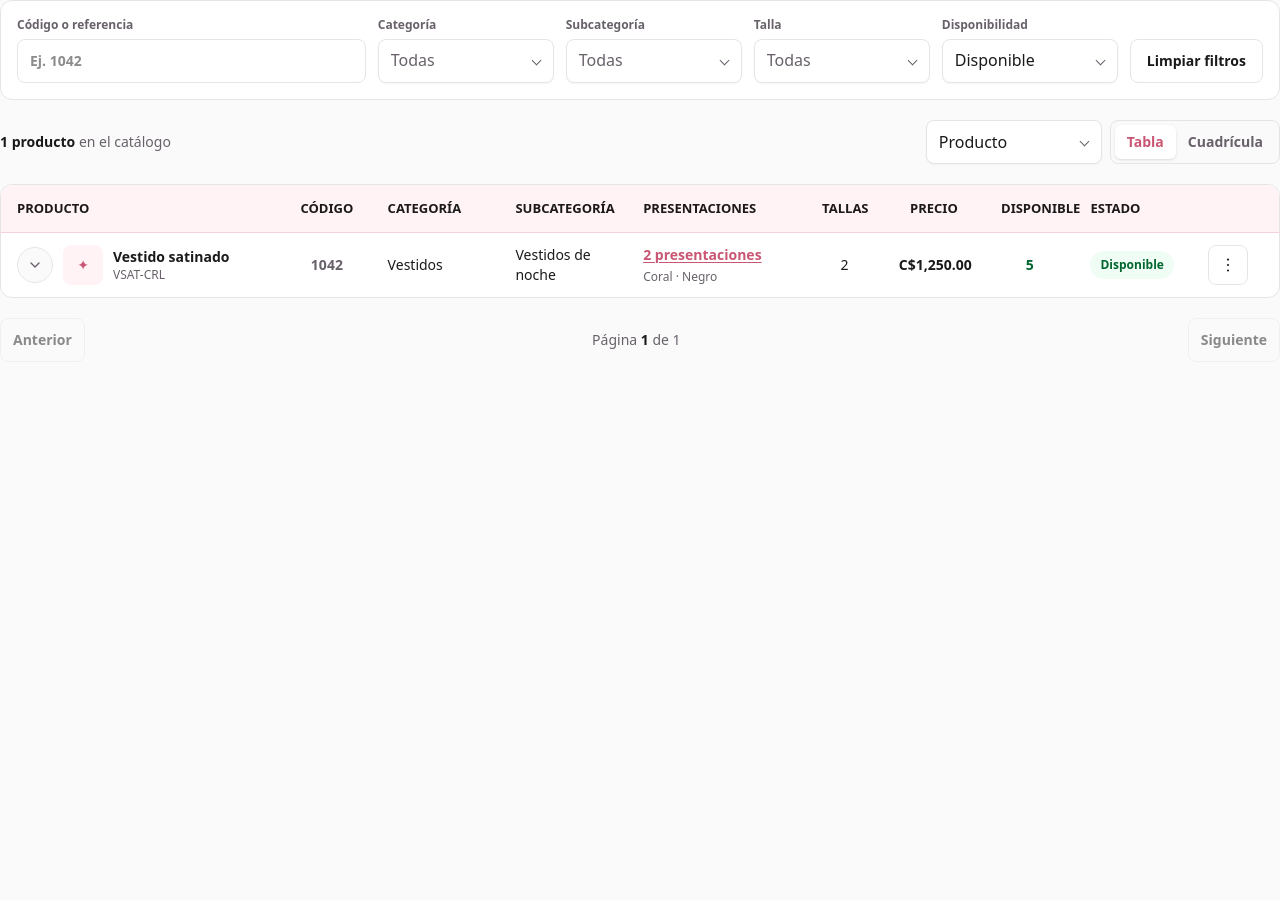
ProductsPage › switches to presentation grouping and renders each variant with its image
This screenshot has width=1280, height=900.
Expected: the text "Vestido satinado" is shown, 113,247 -> 230,266
Click the button with aria-label "Agrupar por" at (1014, 142), box 926,120 -> 1102,164
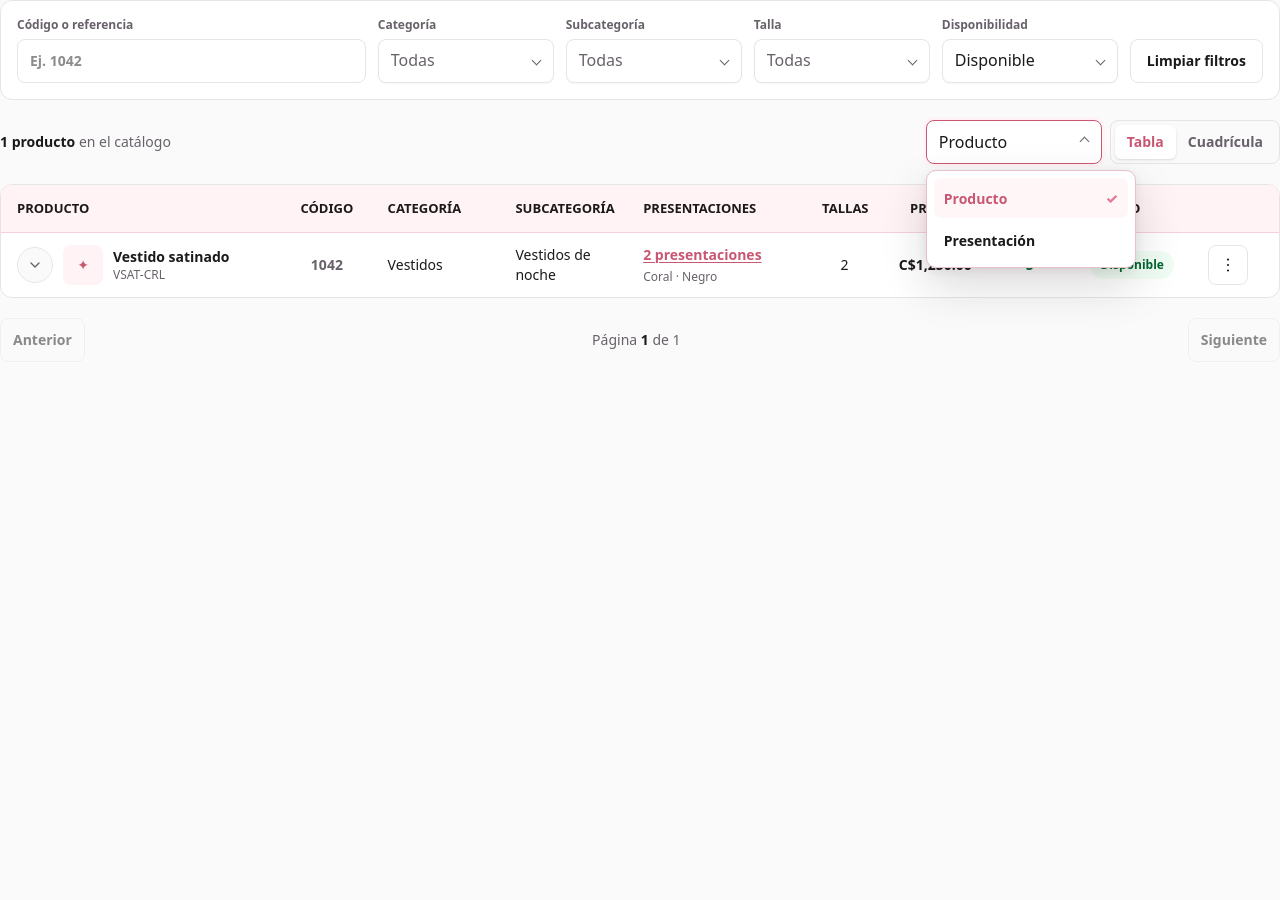
Click the option "Presentación" at (1031, 240), box 934,220 -> 1128,260
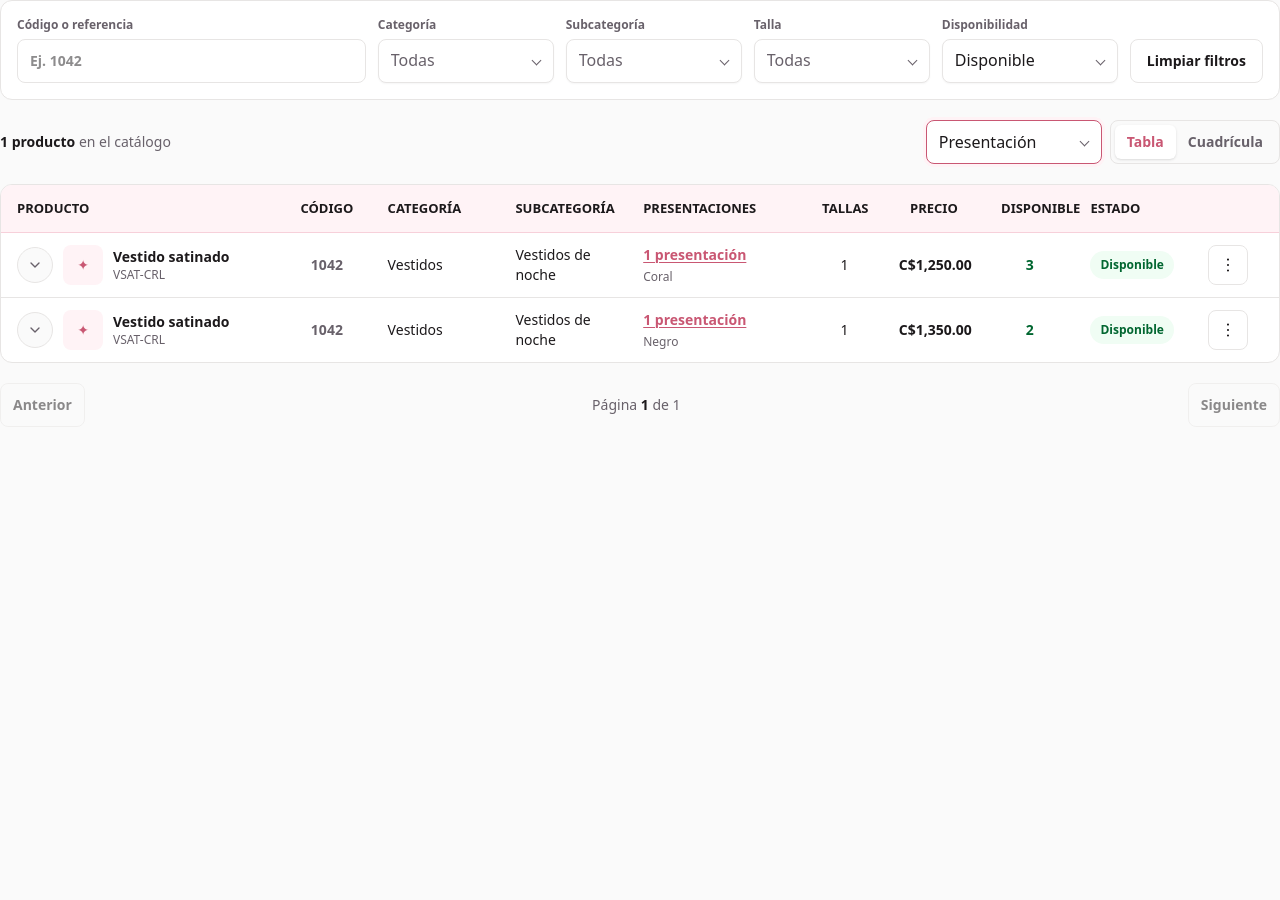
Expected: the number of rows is 3, 1,185 -> 1279,232; 1,233 -> 1279,297; 1,297 -> 1279,362
Click the button "Cuadrícula" at (1225, 142), box 1176,125 -> 1275,159
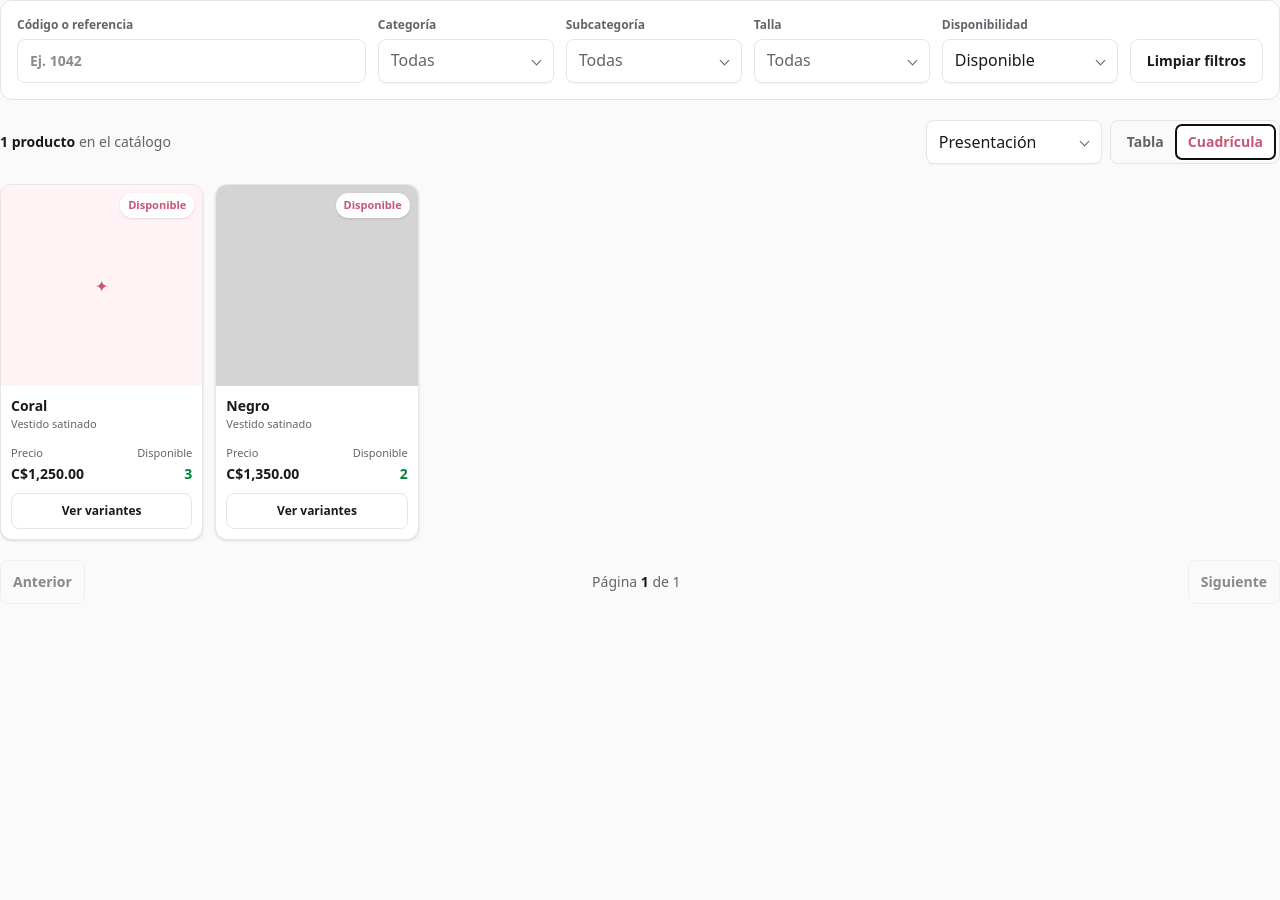
Expected: the heading "Coral" is shown, 11,396 -> 47,415
Expected: the heading "Negro" is shown, 226,396 -> 270,415
Click the button with aria-label "Ver variantes de Negro" at (317, 511), box 226,493 -> 408,529
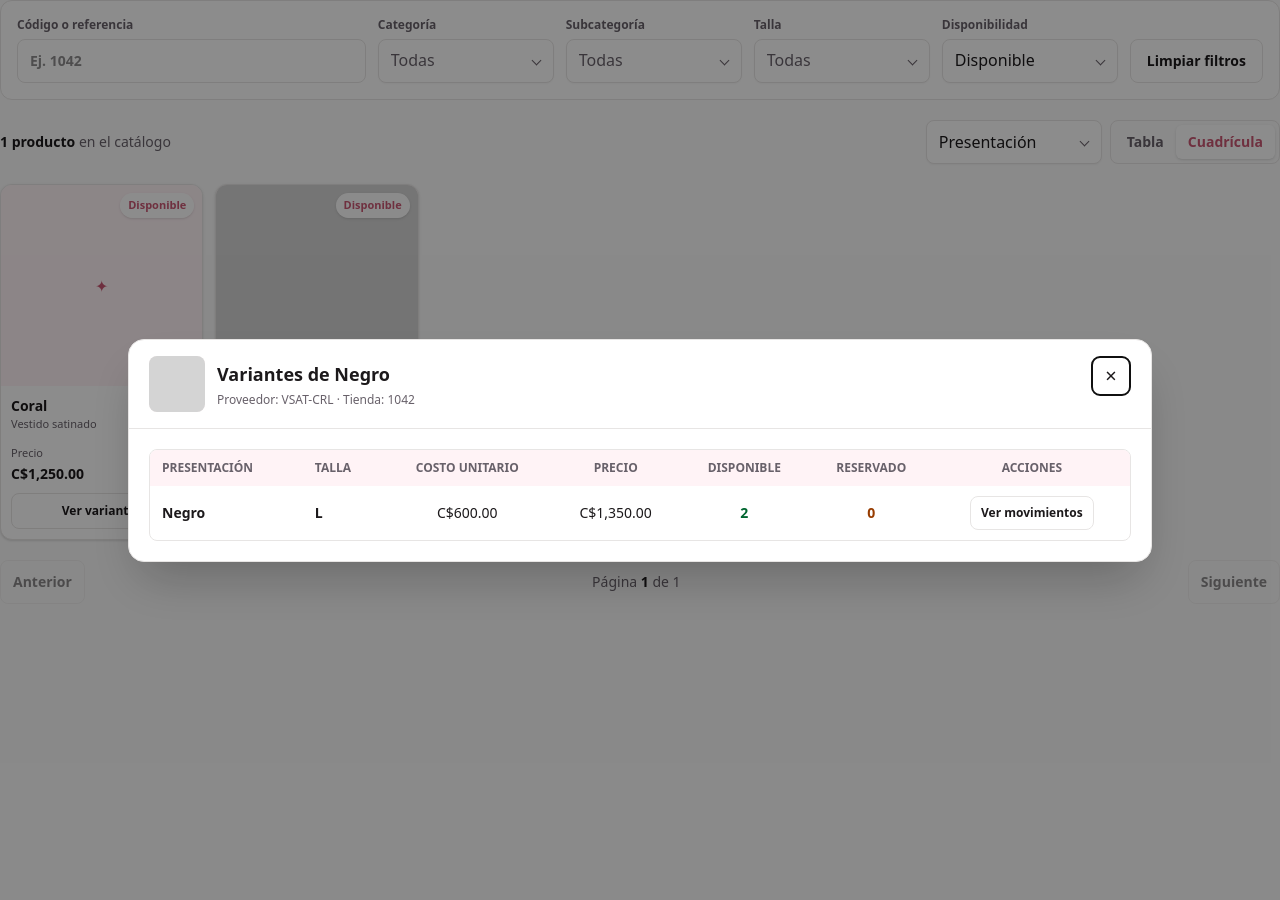
Expected: the table named "Variantes de Negro" does not show "Talla L", 150,450 -> 1130,540
Expected: the text "Proveedor: VSAT-CRL · Tienda: 1042" is shown, 217,390 -> 415,408
Expected: the table named "Variantes de Negro" shows "l", 315,502 -> 323,522
